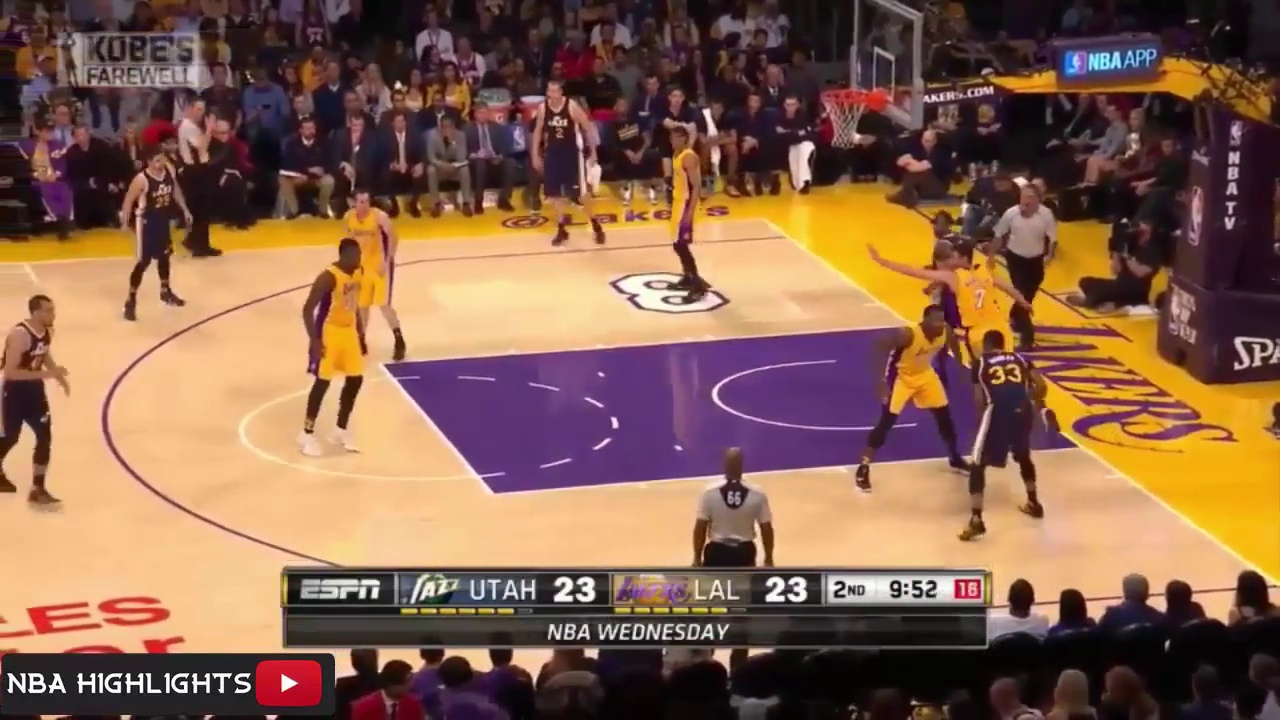jazz: (974, 333, 1052, 542), (1, 295, 74, 513), (109, 151, 186, 327), (531, 82, 612, 245), (925, 211, 954, 304)
lakers: (924, 240, 1038, 383), (864, 312, 956, 481), (301, 240, 369, 457), (345, 194, 408, 354), (669, 128, 709, 297)
